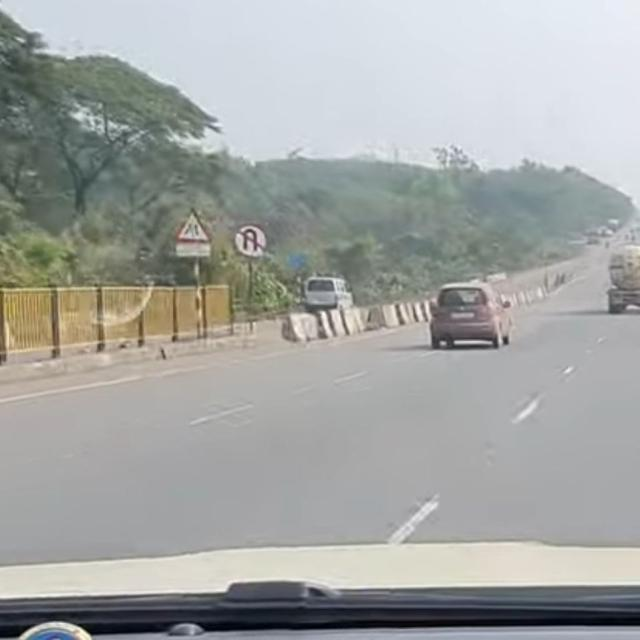merging_traffic_from_left: (174, 201, 213, 247)
no_uturn: (230, 226, 274, 265)
